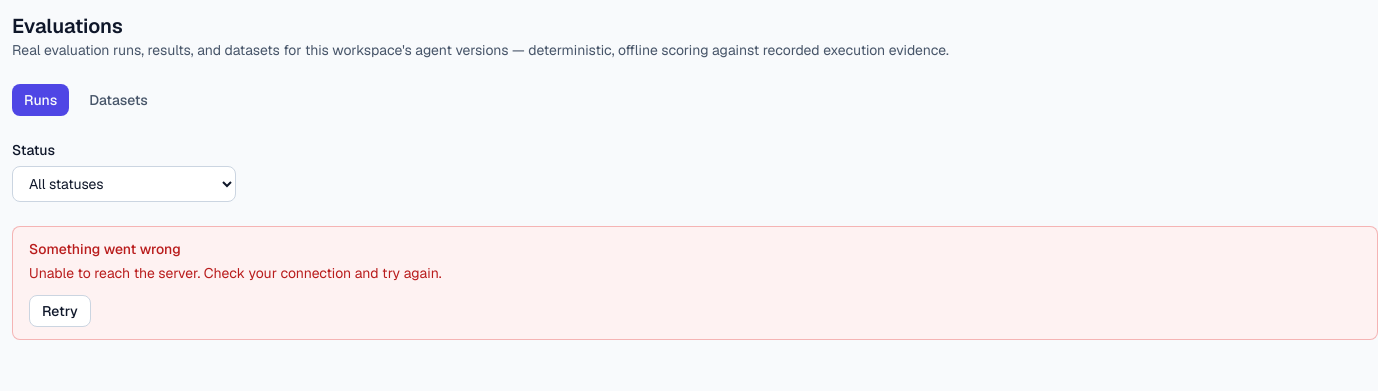
Test: EvaluationsListPage › shows a network-error state (not empty) and recovers via Retry
Expected: the text "Something went wrong" is shown, [29, 240, 181, 258]
What coordinates should you click on to do the following:
click the button "Retry"
I would click on:
 (60, 311)
Its box is [29, 295, 91, 327].
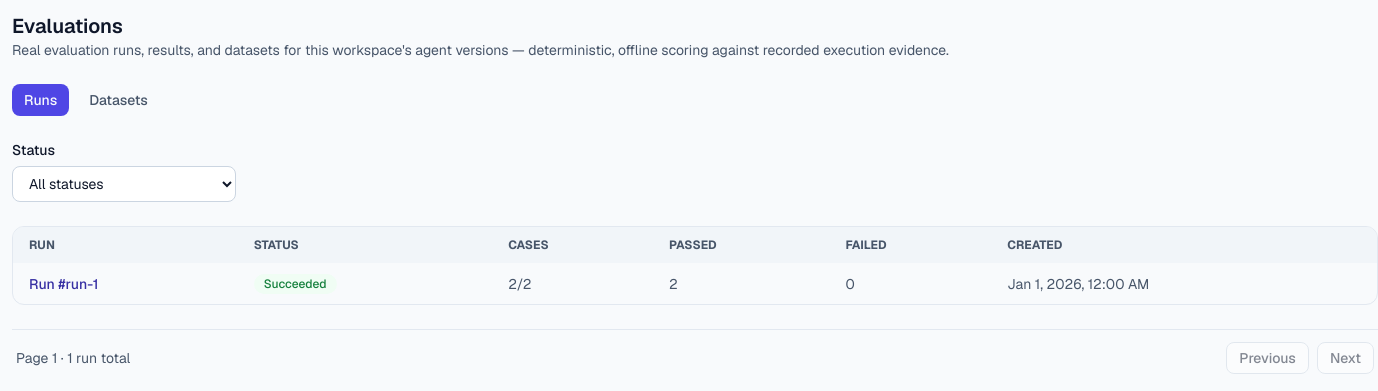
Expected: the link "Run #run-1" is shown, [29, 274, 98, 292]
